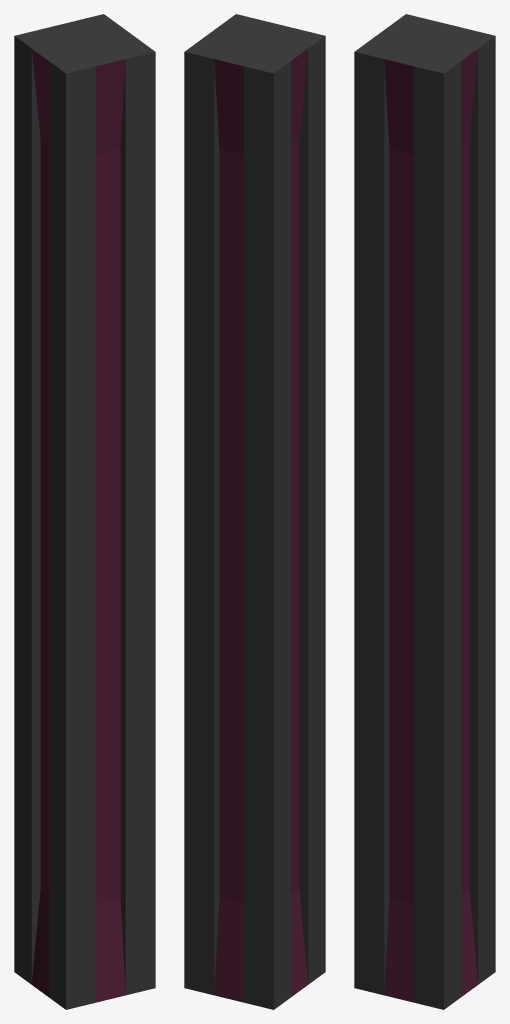
File: Pillar.fbx
3 views of the same model, side by side, from view 1: azimuth 30°, elevation 25°; view 2: azimuth 150°, elevation 25°; view 3: azimuth 330°, elevation 25° (orthographic).
Visible parts, largest first — view 1: Pillar; view 2: Pillar; view 3: Pillar.
Part boxes in pixels (box(x1,y1,x2,y2)): Pillar: box(14, 14, 155, 1009); Pillar: box(184, 14, 325, 1009); Pillar: box(354, 14, 495, 1009).
Size of the model in its own units: 200 by 2000 by 200.
